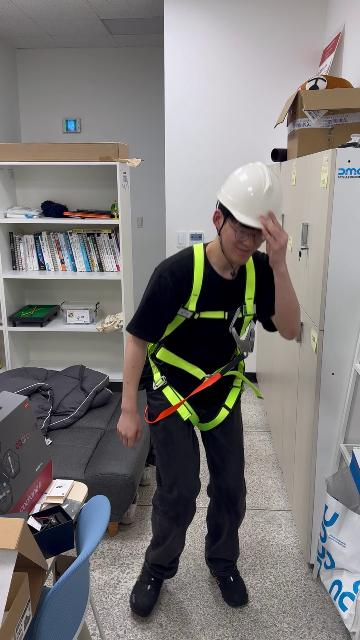helmet_worn: (215, 161, 283, 229)
shoe_not_worn: (140, 465, 153, 485)
shoe_worn: (129, 565, 164, 617), (208, 565, 248, 607)
vest_worn: (143, 248, 256, 423)
